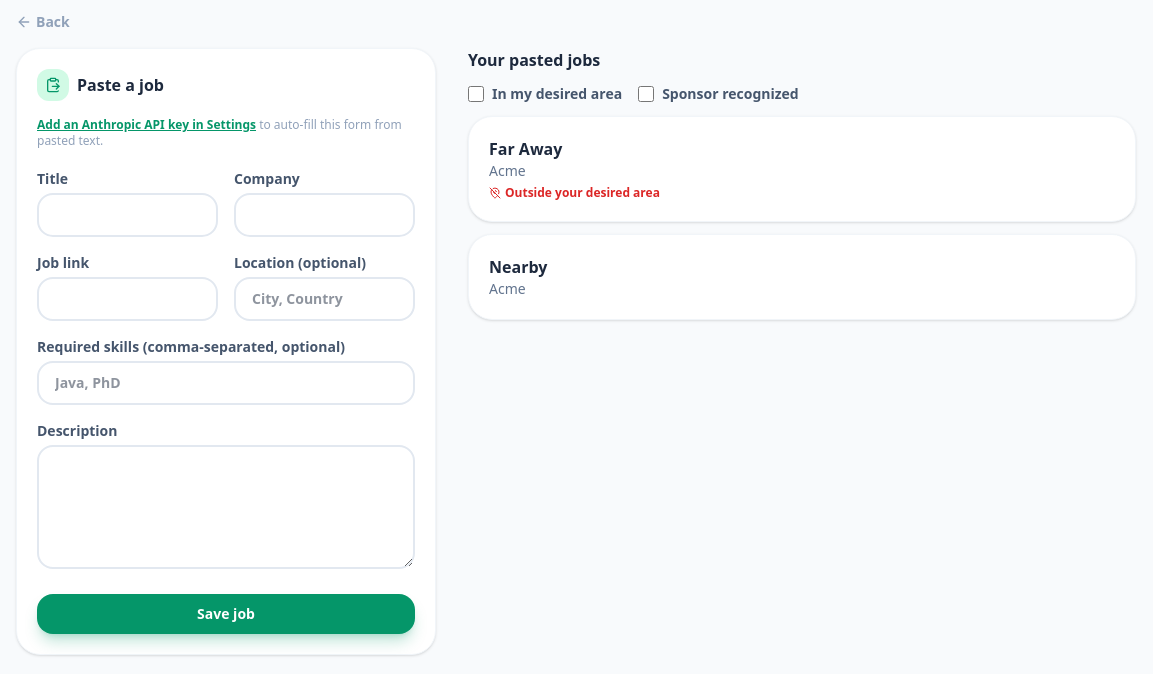
Test: Jobs › filters the list to jobs in the desired area
Expected: the text "Far Away" is shown, x1=489 y1=138 x2=562 y2=160
Click the checkbox labelled "In my desired area" at (476, 94), box x1=468 y1=86 x2=484 y2=102
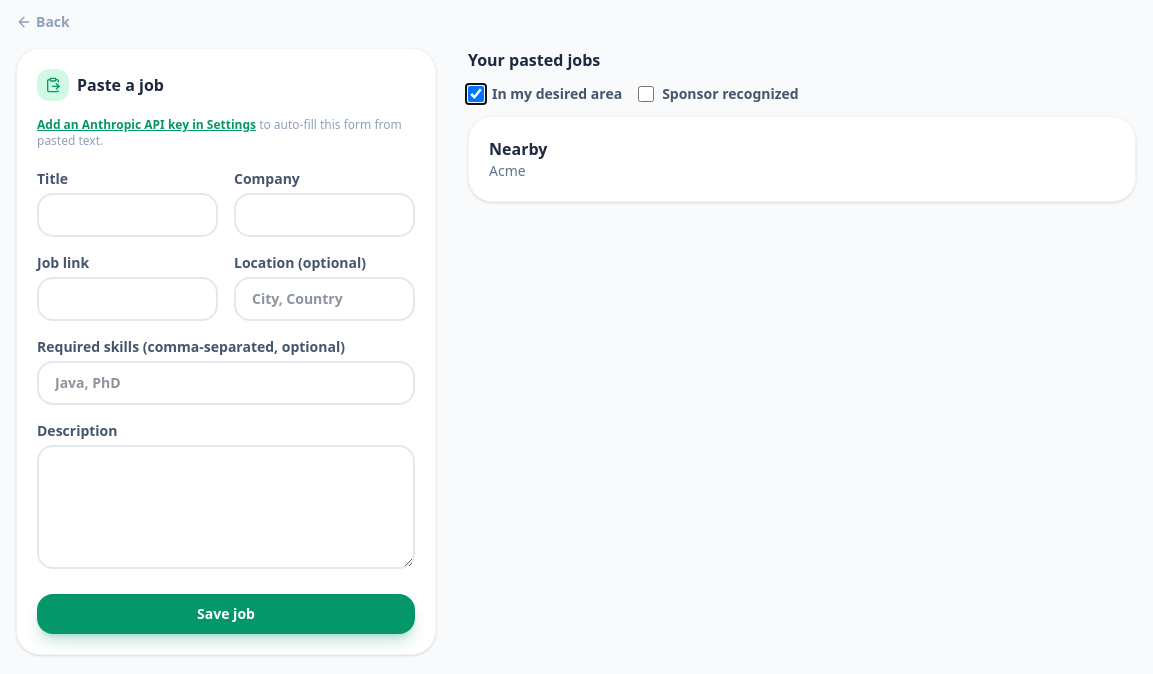
Expected: the text "Nearby" is shown, x1=489 y1=138 x2=547 y2=160
Result: the text "Far Away" is gone
